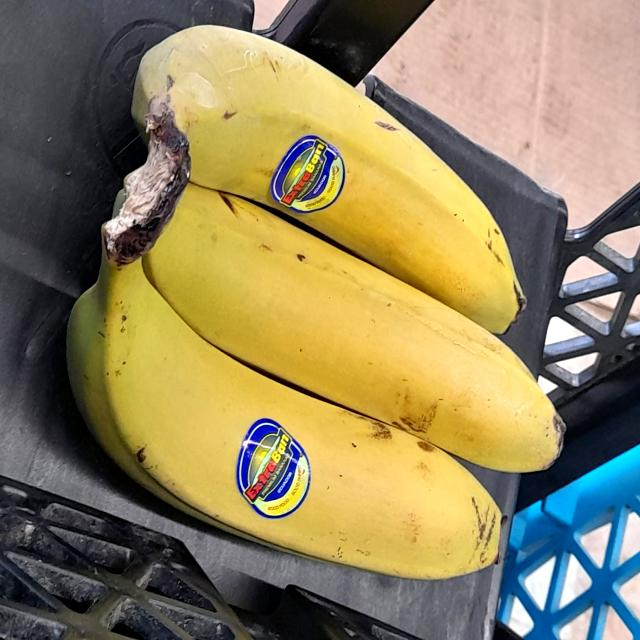banana: (80, 31, 565, 579)
